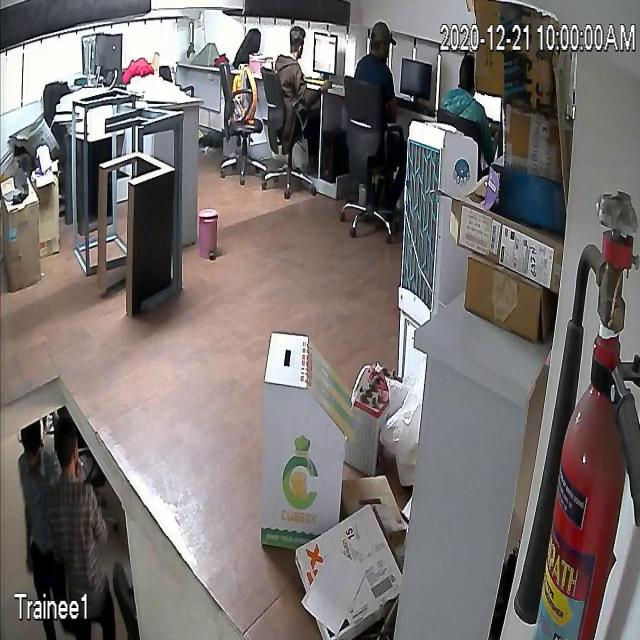chair: (337, 74, 403, 244), (264, 66, 318, 202), (221, 61, 267, 190), (51, 404, 107, 492), (436, 100, 492, 172), (107, 549, 143, 639), (156, 56, 197, 100)
monitor: (397, 46, 433, 107), (94, 28, 124, 90), (468, 82, 504, 124), (312, 24, 338, 80)
person: (46, 415, 112, 640), (12, 414, 62, 633), (276, 27, 330, 150), (449, 44, 499, 161), (359, 14, 401, 123)
